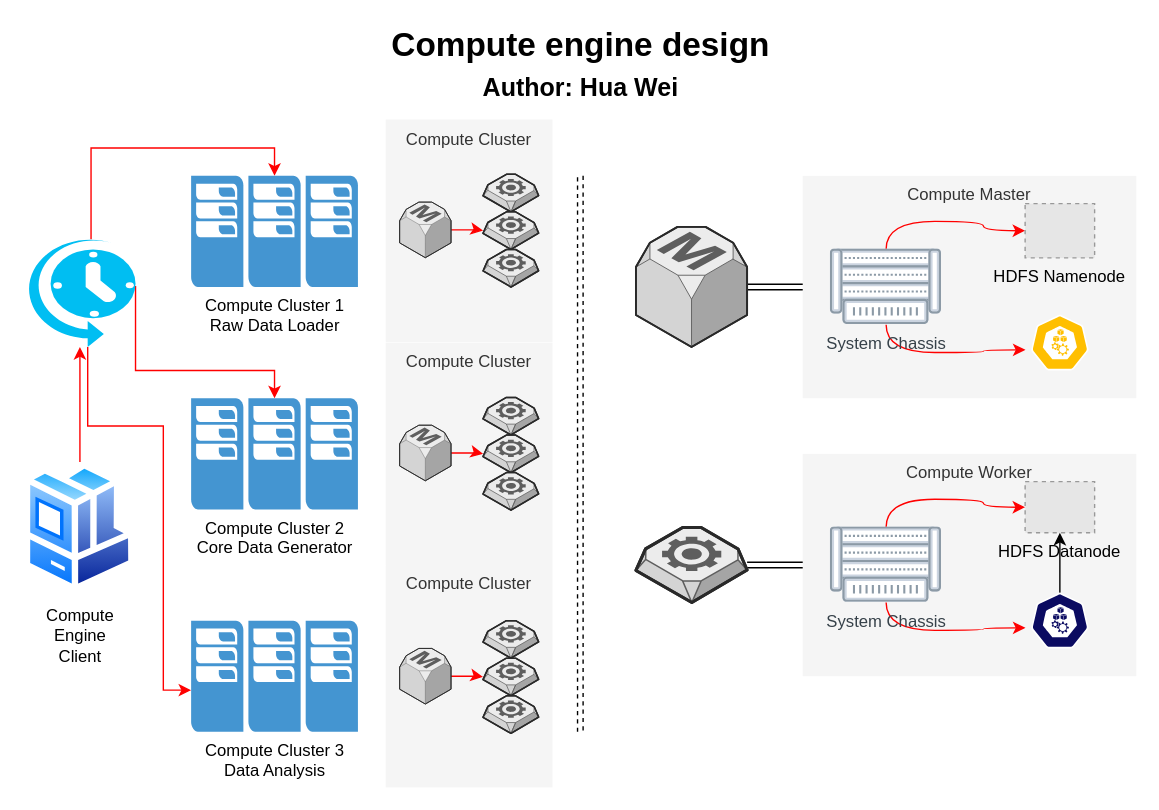
Image size: 1159x810. Some labels were removed from this diagram. Grey dashed boxes stand in for pictures. Here are the shapes that lost their labels. From the top down, the centre of each, then its label:
At point (79, 290): "Compute Engine Scheduler: Apache Airflow".
At point (1059, 341): "Apache Spark Master".
At point (1059, 619): "Apache Spark Worker".
